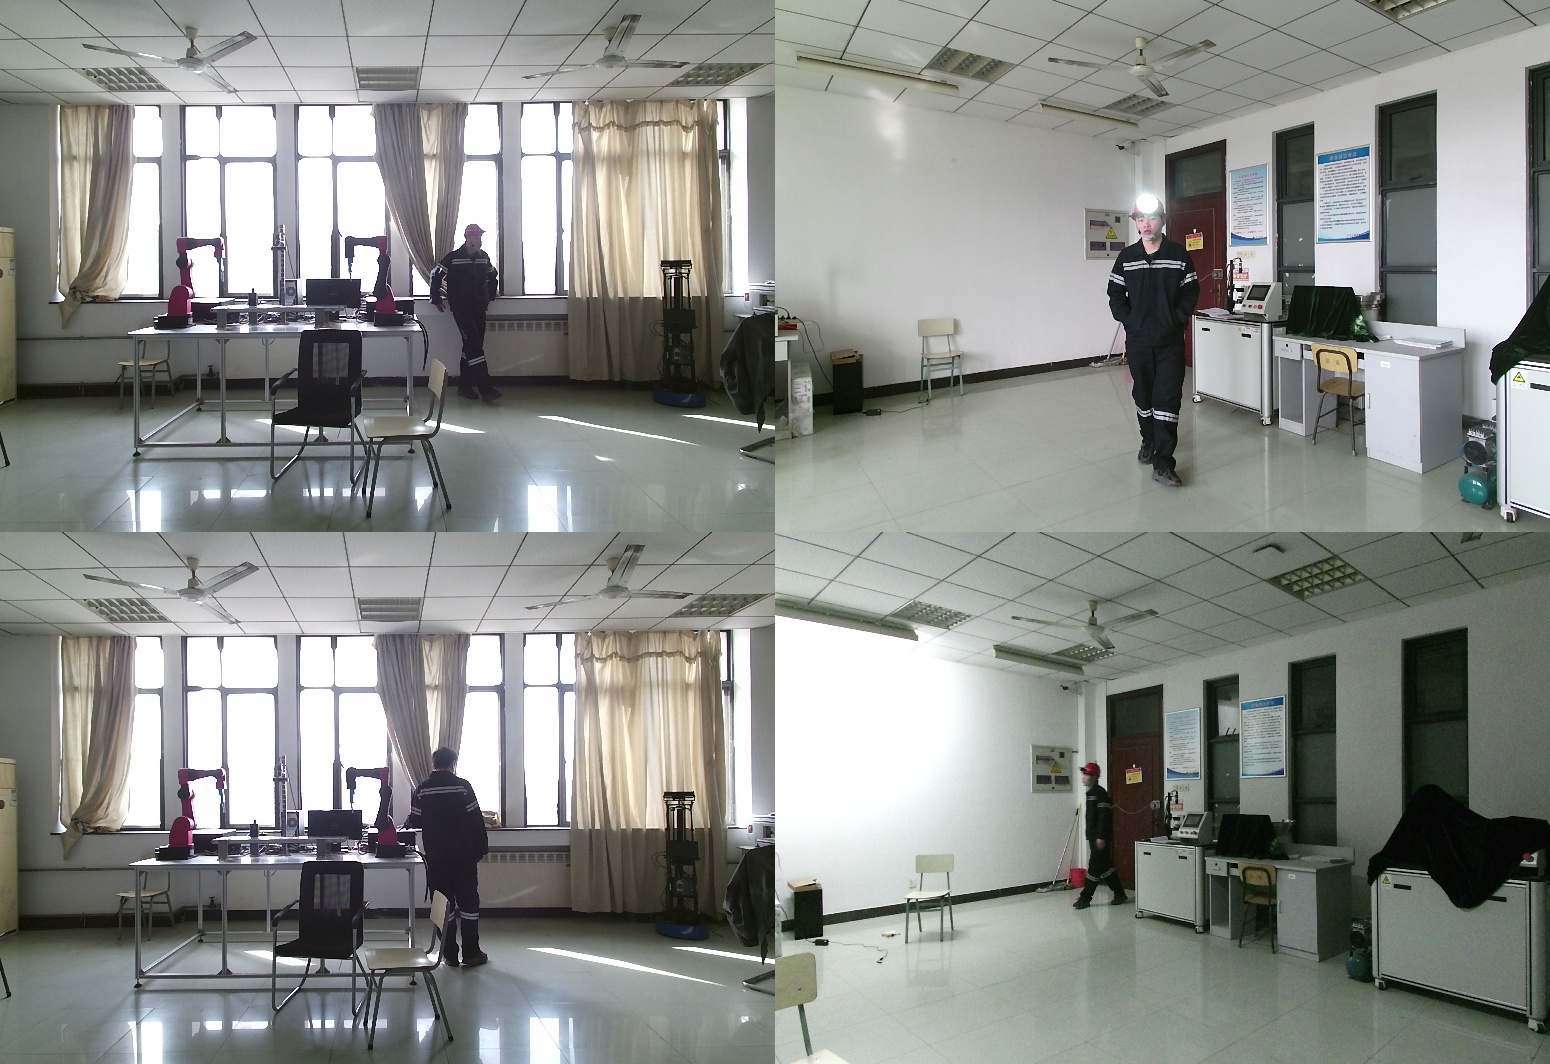person: (1105, 199, 1209, 490), (403, 746, 495, 969), (433, 226, 516, 406), (1074, 764, 1126, 912)
